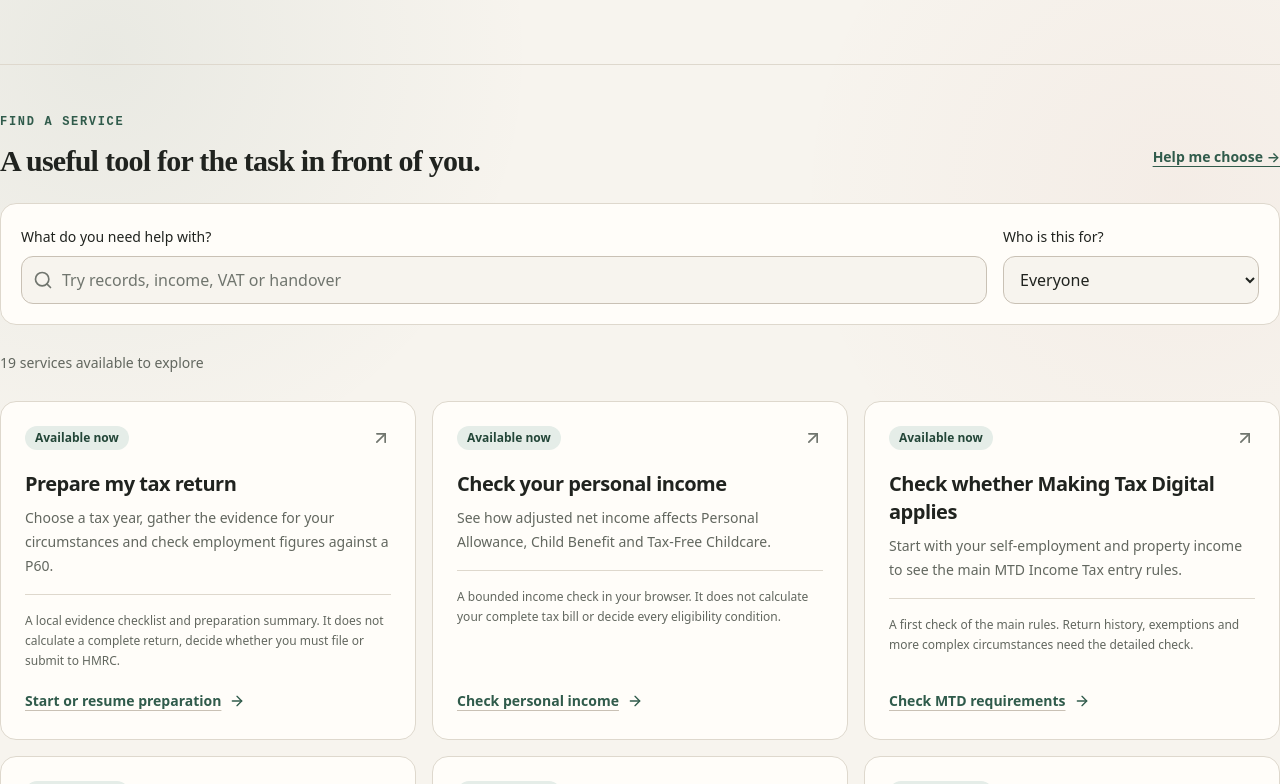
Test: service discovery › recovers from no matches with clear filters
Type "no-such-task" into the search field labelled "What do you need help with?" at (504, 280), box [21,256,987,304]
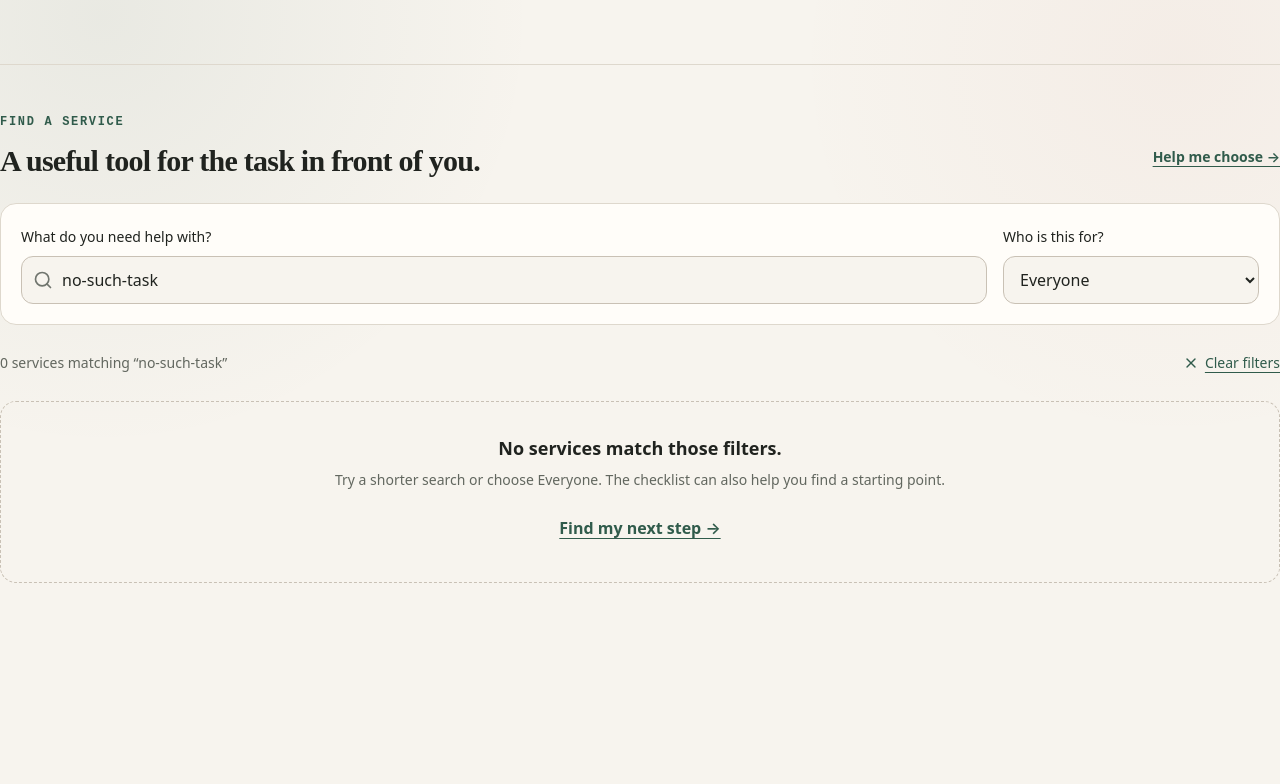
Check: the heading "No services match those filters." is shown, box [498,436,782,460]
Click the button "Clear filters" at (1231, 363), box [1183,341,1279,385]
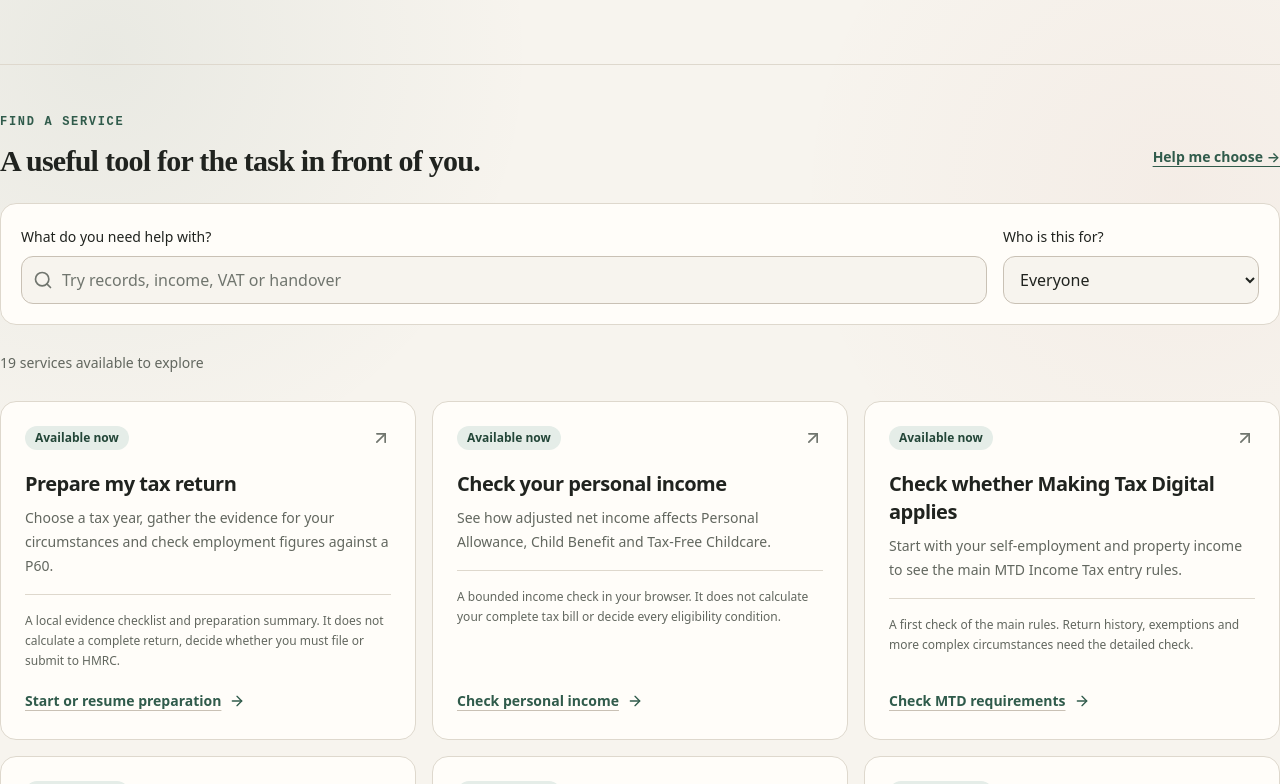
Check: the search field labelled "What do you need help with?" is empty, box [21,256,987,304]
